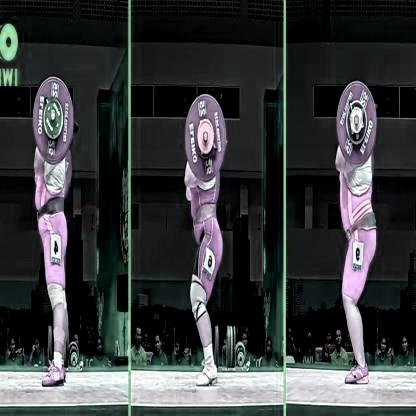Barbell: (199, 130, 208, 147), (47, 108, 55, 125), (352, 115, 359, 128)
